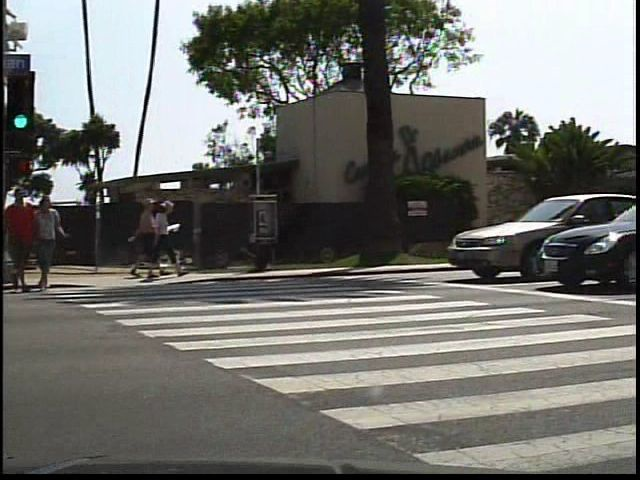person: (10, 190, 49, 298), (39, 195, 80, 295)
